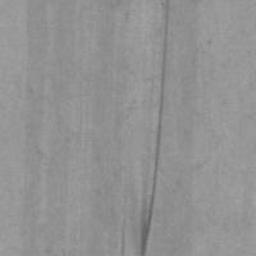Inclusion: (140, 0, 174, 256), (118, 230, 128, 256)
